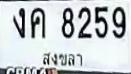2: (77, 6, 91, 38)
5: (94, 5, 107, 38)
8: (61, 7, 73, 38)
9: (111, 6, 125, 38)
A04: (30, 7, 45, 38)
A07: (12, 7, 24, 38)
SKA: (40, 49, 86, 69)
